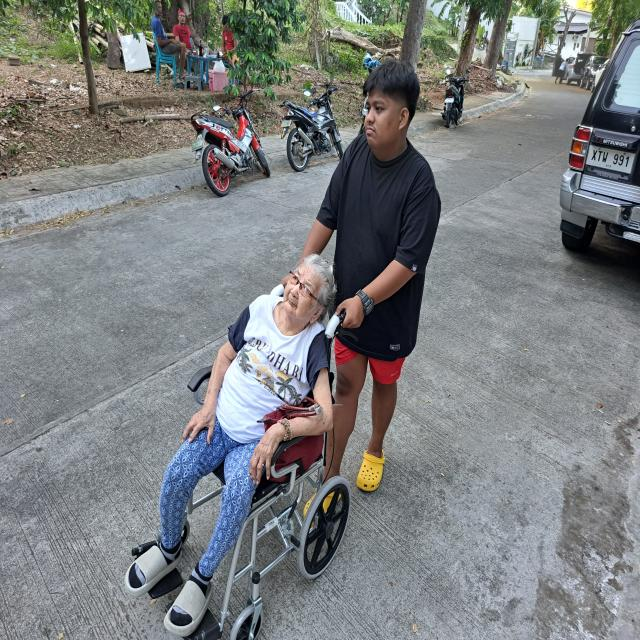wheelchairs: (128, 302, 361, 640)
